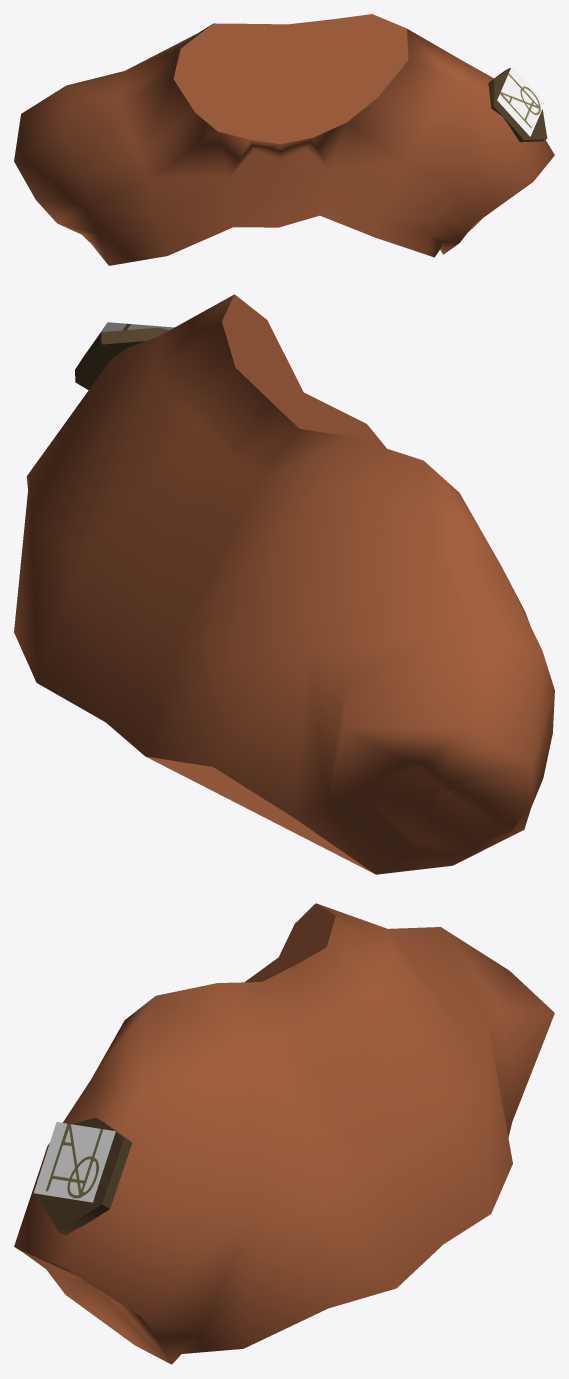
The model's file is BH_Shoulders.fbx.
3 views of the same model, one above another, from view 1: azimuth 30°, elevation 25°; view 2: azimuth 150°, elevation 25°; view 3: azimuth 270°, elevation 25° (orthographic). The views are drawn at different scales.
Visible parts, largest first — view 1: BH_Shoulders; view 2: BH_Shoulders; view 3: BH_Shoulders.
Boxes of the visible parts, bbox=[...] form: BH_Shoulders: bbox=[14, 14, 554, 265]; BH_Shoulders: bbox=[14, 294, 554, 874]; BH_Shoulders: bbox=[14, 903, 554, 1364].
Size of the model in its own units: 39.78 by 21.7 by 31.1.
